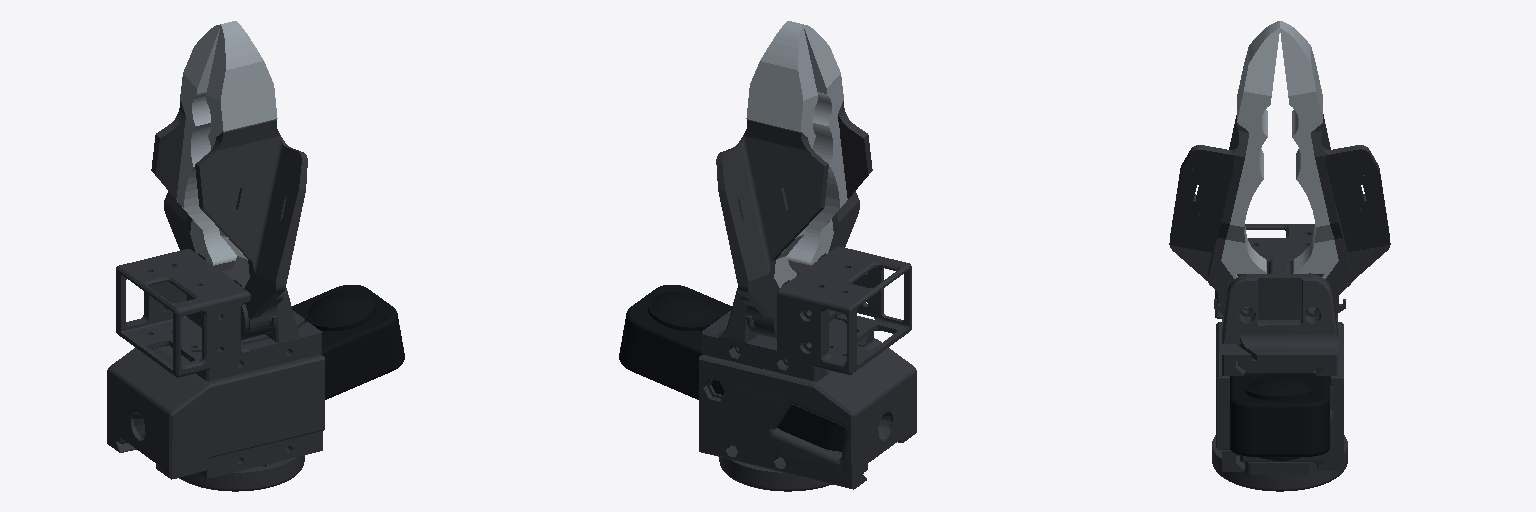
The robot description file, URDF, robot "chopstick_openarm":
<?xml version="1.0"?>
<!-- Generated by chopstick/cad/urdf.py from the KIWI chopstick CAD. Units: m, rad. -->
<robot name="chopstick_openarm">
  <material name="black"><color rgba="0.24 0.25 0.27 1"/></material>
  <material name="tpu"><color rgba="0.6 0.63 0.66 1"/></material>
  <material name="camera"><color rgba="0.11 0.12 0.13 1"/></material>
  <link name="chopstick_flange"/>
  <link name="chopstick_base">
    <visual name="chopstick_base_sa"><origin xyz="0 0 0" rpy="0 0 0"/><geometry><mesh filename="meshes/chopstick_base_sa.stl" scale="0.001 0.001 0.001"/></geometry><material name="black"/></visual>
    <collision name="chopstick_base_sa"><origin xyz="0 0 0" rpy="0 0 0"/><geometry><mesh filename="meshes/chopstick_base_sa.stl" scale="0.001 0.001 0.001"/></geometry></collision>
    <visual name="chopstick_clip_sa"><origin xyz="0 0 0" rpy="0 0 0"/><geometry><mesh filename="meshes/chopstick_clip_sa.stl" scale="0.001 0.001 0.001"/></geometry><material name="black"/></visual>
    <collision name="chopstick_clip_sa"><origin xyz="0 0 0" rpy="0 0 0"/><geometry><mesh filename="meshes/chopstick_clip_sa.stl" scale="0.001 0.001 0.001"/></geometry></collision>
    <visual name="x5_frame"><origin xyz="0 0 0" rpy="0 0 0"/><geometry><mesh filename="meshes/x5_frame.stl" scale="0.001 0.001 0.001"/></geometry><material name="black"/></visual>
    <collision name="x5_frame"><origin xyz="0 0 0" rpy="0 0 0"/><geometry><mesh filename="meshes/x5_frame.stl" scale="0.001 0.001 0.001"/></geometry></collision>
    <visual name="x5_clip_b"><origin xyz="0 0 0" rpy="0 0 0"/><geometry><mesh filename="meshes/x5_clip_b.stl" scale="0.001 0.001 0.001"/></geometry><material name="black"/></visual>
    <collision name="x5_clip_b"><origin xyz="0 0 0" rpy="0 0 0"/><geometry><mesh filename="meshes/x5_clip_b.stl" scale="0.001 0.001 0.001"/></geometry></collision>
    <visual name="openarm_adapter"><origin xyz="0 0 0" rpy="0 0 0"/><geometry><mesh filename="meshes/openarm_adapter.stl" scale="0.001 0.001 0.001"/></geometry><material name="black"/></visual>
    <collision name="openarm_adapter"><origin xyz="0 0 0" rpy="0 0 0"/><geometry><mesh filename="meshes/openarm_adapter.stl" scale="0.001 0.001 0.001"/></geometry></collision>
    <visual name="insta360_x5_envelope"><origin xyz="0 0 0" rpy="0 0 0"/><geometry><mesh filename="meshes/insta360_x5_envelope.stl" scale="0.001 0.001 0.001"/></geometry><material name="camera"/></visual>
    <collision name="insta360_x5_envelope"><origin xyz="0 0 0" rpy="0 0 0"/><geometry><mesh filename="meshes/insta360_x5_envelope.stl" scale="0.001 0.001 0.001"/></geometry></collision>
    <visual name="servo_envelope"><origin xyz="0 0 0" rpy="0 0 0"/><geometry><mesh filename="meshes/servo_envelope.stl" scale="0.001 0.001 0.001"/></geometry><material name="camera"/></visual>
    <collision name="servo_envelope"><origin xyz="0 0 0" rpy="0 0 0"/><geometry><mesh filename="meshes/servo_envelope.stl" scale="0.001 0.001 0.001"/></geometry></collision>
    <inertial><origin xyz="0.0392576 0.000859754 -0.00381974" rpy="0 0 0"/><mass value="0.48377"/><inertia ixx="0.0006278" ixy="-1.174e-05" ixz="0.0001247" iyy="0.0008233" iyz="1.219e-05" izz="0.0004009"/></inertial>
  </link>
  <link name="chopstick_jaw_left">
    <visual name="jaw_left_sa"><origin xyz="0 0 0" rpy="0 0 0"/><geometry><mesh filename="meshes/jaw_left_sa_jawframe.stl" scale="0.001 0.001 0.001"/></geometry><material name="black"/></visual>
    <collision name="jaw_left_sa"><origin xyz="0 0 0" rpy="0 0 0"/><geometry><mesh filename="meshes/jaw_left_sa_jawframe.stl" scale="0.001 0.001 0.001"/></geometry></collision>
    <visual name="tip_tpu_left"><origin xyz="0 0 0" rpy="0 0 0"/><geometry><mesh filename="meshes/tip_tpu_left_jawframe.stl" scale="0.001 0.001 0.001"/></geometry><material name="tpu"/></visual>
    <collision name="tip_tpu_left"><origin xyz="0 0 0" rpy="0 0 0"/><geometry><mesh filename="meshes/tip_tpu_left_jawframe.stl" scale="0.001 0.001 0.001"/></geometry></collision>
    <inertial><origin xyz="0.0644895 0.00198586 -0.00309186" rpy="0 0 0"/><mass value="0.049106"/><inertia ixx="6.701e-06" ixy="7.419e-06" ixz="8.395e-07" iyy="6.993e-05" iyz="-4.053e-07" izz="7.082e-05"/></inertial>
  </link>
  <link name="chopstick_tip_left"/>
  <link name="chopstick_jaw_right">
    <visual name="jaw_right"><origin xyz="0 0 0" rpy="0 0 0"/><geometry><mesh filename="meshes/jaw_right_jawframe.stl" scale="0.001 0.001 0.001"/></geometry><material name="black"/></visual>
    <collision name="jaw_right"><origin xyz="0 0 0" rpy="0 0 0"/><geometry><mesh filename="meshes/jaw_right_jawframe.stl" scale="0.001 0.001 0.001"/></geometry></collision>
    <visual name="tip_tpu_right"><origin xyz="0 0 0" rpy="0 0 0"/><geometry><mesh filename="meshes/tip_tpu_right_jawframe.stl" scale="0.001 0.001 0.001"/></geometry><material name="tpu"/></visual>
    <collision name="tip_tpu_right"><origin xyz="0 0 0" rpy="0 0 0"/><geometry><mesh filename="meshes/tip_tpu_right_jawframe.stl" scale="0.001 0.001 0.001"/></geometry></collision>
    <inertial><origin xyz="0.0648724 -0.0019661 -0.00301111" rpy="0 0 0"/><mass value="0.048738"/><inertia ixx="6.65e-06" ixy="-7.43e-06" ixz="1.142e-06" iyy="6.877e-05" iyz="3.832e-07" izz="6.964e-05"/></inertial>
  </link>
  <link name="chopstick_tip_right"/>
  <link name="chopstick_camera"/>
  <link name="chopstick_tcp"/>
  <joint name="chopstick_mount_joint" type="fixed"><parent link="chopstick_flange"/><child link="chopstick_base"/><origin xyz="0 0 0.1095" rpy="3.14159265 -1.57079633 0"/></joint>
  <joint name="chopstick_jaw" type="revolute">
    <parent link="chopstick_base"/><child link="chopstick_jaw_left"/>
    <origin xyz="0.06733 0.015 0" rpy="0 0 0"/><axis xyz="0 0 1"/>
    <limit lower="0.00000" upper="1.25664" effort="4" velocity="6"/>
  </joint>
  <joint name="chopstick_tip_left_joint" type="fixed"><parent link="chopstick_jaw_left"/><child link="chopstick_tip_left"/><origin xyz="0.137417 -0.015085 -0.003671" rpy="0 0 0"/></joint>
  <joint name="chopstick_jaw_right" type="revolute">
    <parent link="chopstick_base"/><child link="chopstick_jaw_right"/>
    <origin xyz="0.06733 -0.015 0" rpy="0 0 0"/><axis xyz="0 0 1"/>
    <limit lower="-1.25664" upper="0.00000" effort="4" velocity="6"/>
    <mimic joint="chopstick_jaw" multiplier="-1" offset="0"/>
  </joint>
  <joint name="chopstick_tip_right_joint" type="fixed"><parent link="chopstick_jaw_right"/><child link="chopstick_tip_right"/><origin xyz="0.137417 0.015085 -0.003671" rpy="0 0 0"/></joint>
  <joint name="chopstick_camera_joint" type="fixed"><parent link="chopstick_base"/><child link="chopstick_camera"/><origin xyz="0.034420877 0 0.057" rpy="0 0.174532726 0"/></joint>
  <joint name="chopstick_tcp_joint" type="fixed"><parent link="chopstick_base"/><child link="chopstick_tcp"/><origin xyz="0.204747 0 -0.003671" rpy="0 0 0"/></joint>
</robot>

--- What the picture shows (computed from the rendered views, not written in the file) ---
The picture shows the robot from 3 angles, left to right: view 1: azimuth 30°, elevation 25°; view 2: azimuth 150°, elevation 25°; view 3: azimuth 270°, elevation 25°; orthographic projection.
Robot: chopstick_openarm — 8 links, 7 joints (2 revolute, 5 fixed); root link chopstick_flange; default pose: all joints at 0.
Links seen in each view (by area): view 1: chopstick_base, chopstick_jaw_left, chopstick_jaw_right; view 2: chopstick_base, chopstick_jaw_right, chopstick_jaw_left; view 3: chopstick_base, chopstick_jaw_right, chopstick_jaw_left.
Link boxes in pixels (x1,y1,x2,y2): chopstick_base: (107,249,404,491); chopstick_jaw_left: (195,21,307,339); chopstick_jaw_right: (151,24,236,265); chopstick_base: (619,246,916,491); chopstick_jaw_right: (716,21,828,338); chopstick_jaw_left: (787,24,872,265); chopstick_base: (1212,224,1347,491); chopstick_jaw_right: (1280,21,1390,316); chopstick_jaw_left: (1169,21,1279,315).
Bounding box of the posed robot: 0.1302 × 0.1008 × 0.2197 m (x, y, z).
Meshes: 11 distinct files referenced, 10 mesh visuals loaded (10 binary STL); not drawn: 1 (reference not matched to a file when rendering).
